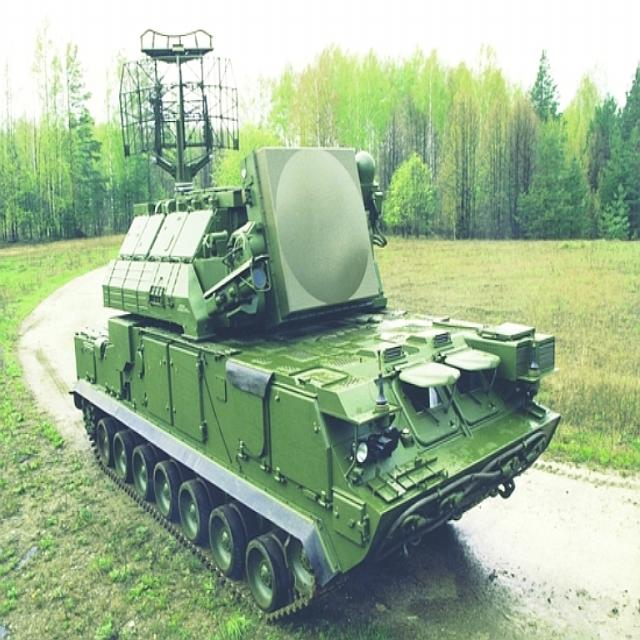MIL_EW_RDR: (73, 22, 558, 622)
